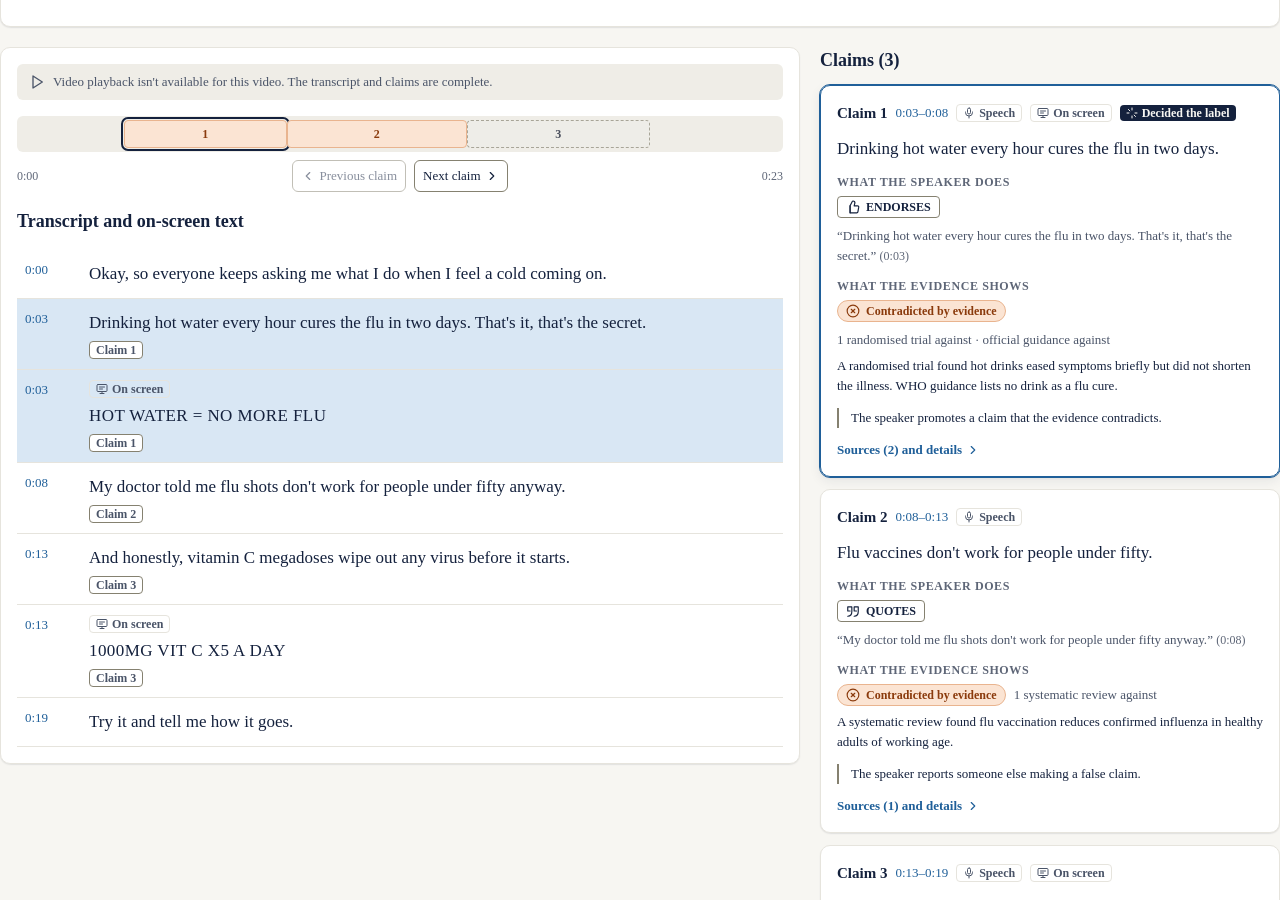
Test: ClaimDrawer › shows quotes and the fixed meaning line, but not the critic's pipeline notes (T52)
(page scrolled)
What coordinates should you click on to do the following:
click the button "Sources (2) and details"
I would click on:
 (909, 450)
Its box is x1=837 y1=440 x2=980 y2=460.
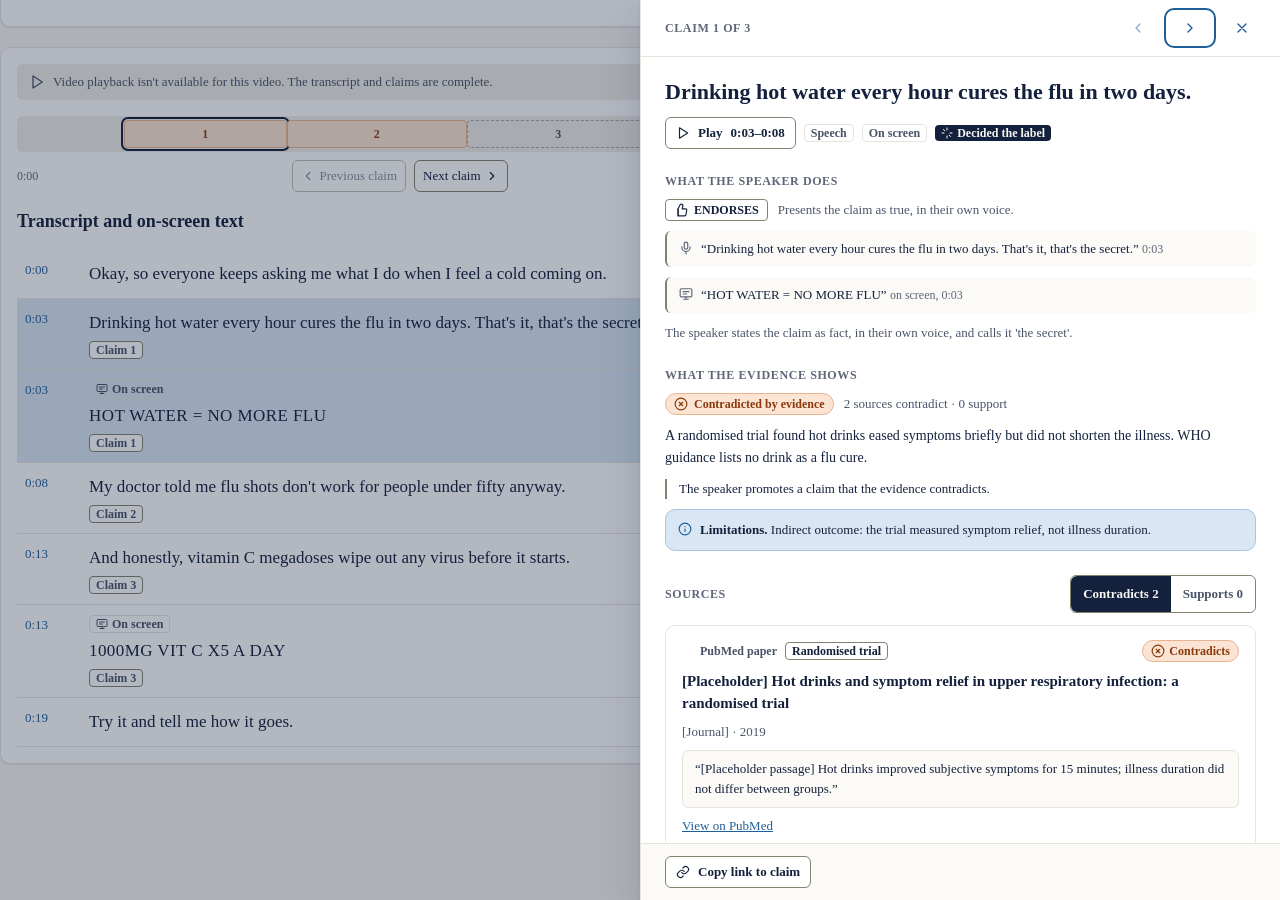
Expected: the text "HOT WATER = NO MORE FLU" is shown, x1=701 y1=287 x2=887 y2=302
Expected: the text "The speaker promotes a claim that the evidence contradicts." is shown, x1=665 y1=479 x2=1256 y2=499
